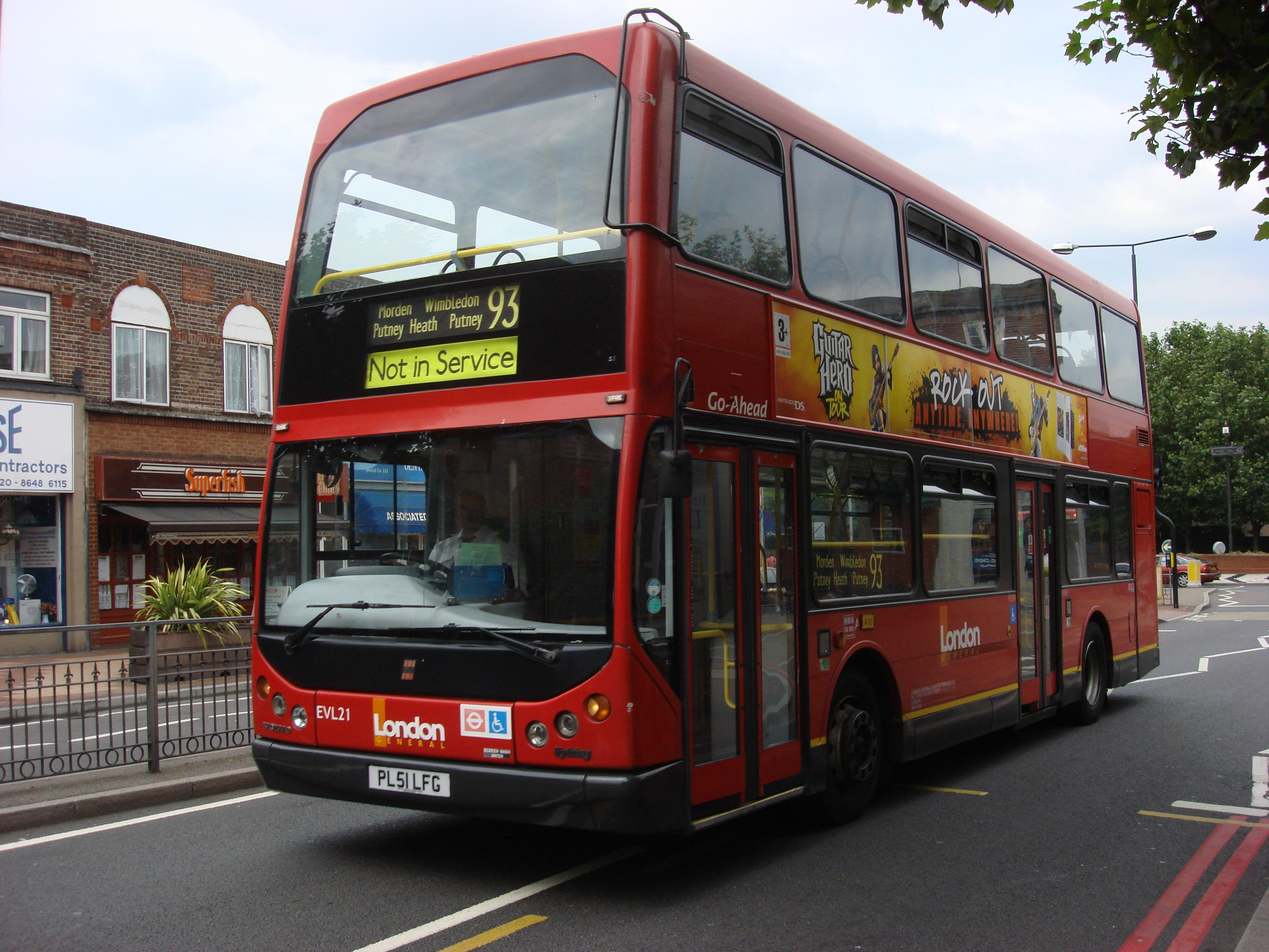Bus: (246, 11, 1165, 844)
